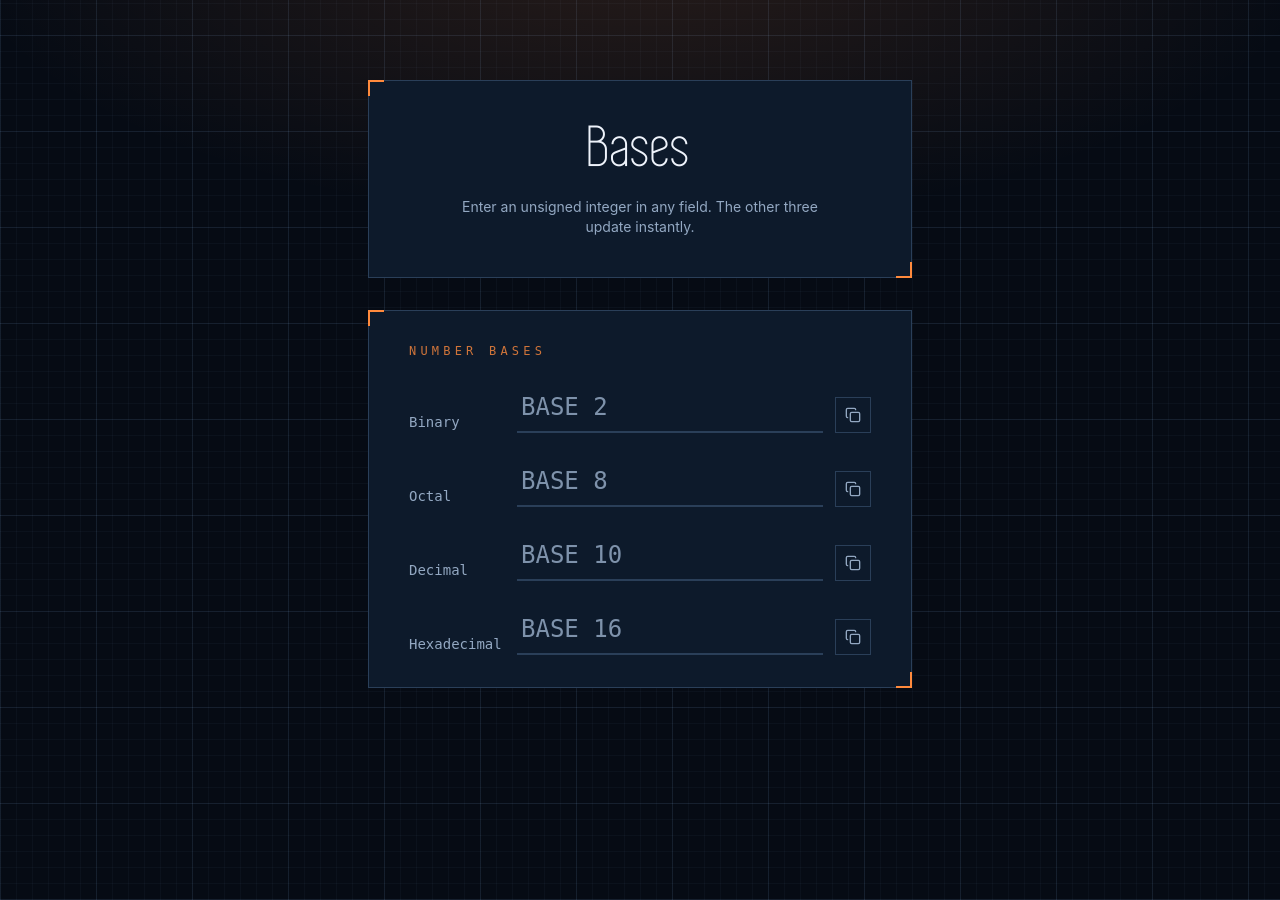
Test case: BasesView › shows an error message wired via aria-describedby on the invalid field
Type "102" into the field with id "binary" at (670, 408), box [517,383,823,433]
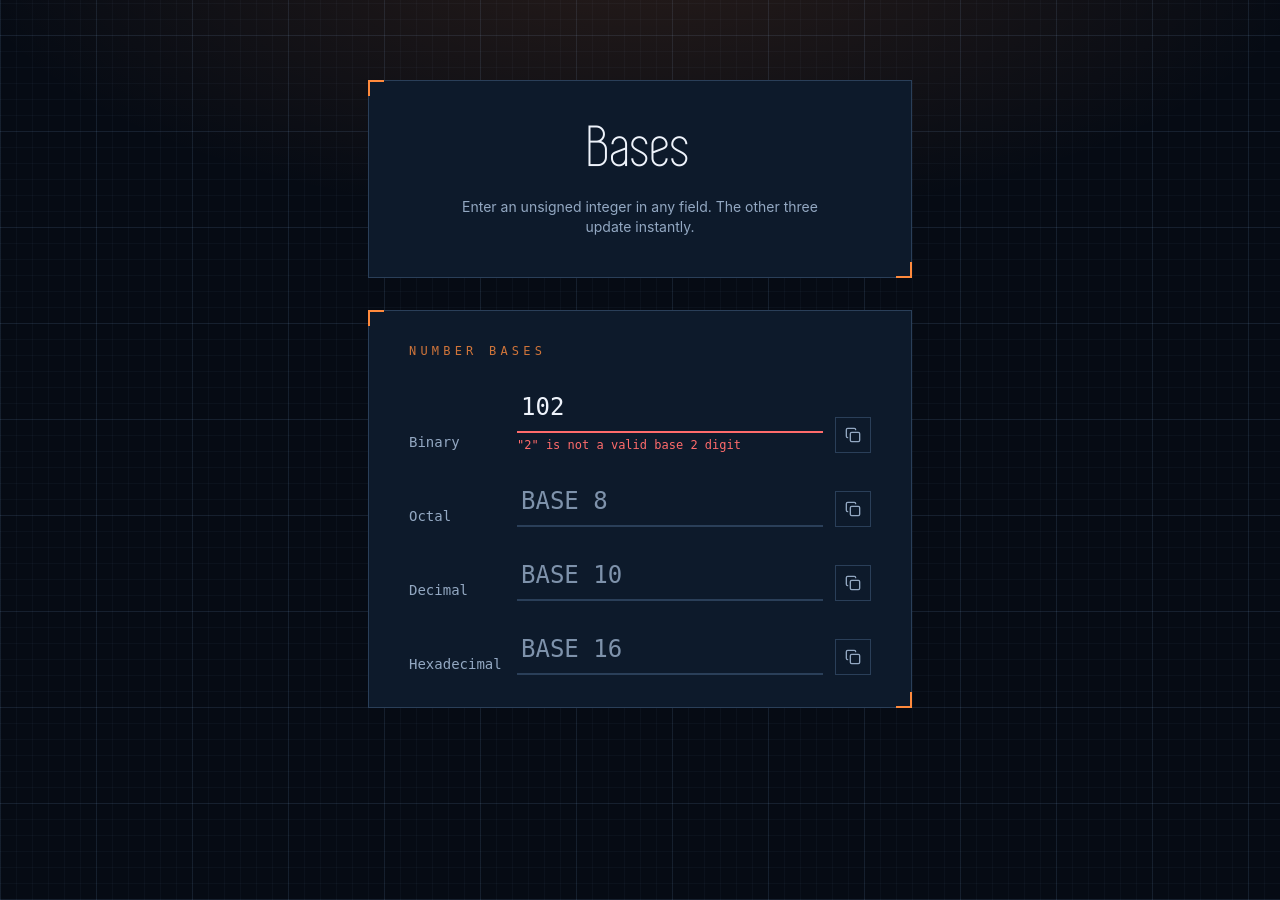
Check: the text "\"2\" is not a valid base 2 digit" is shown, box [517,438,741,452]
